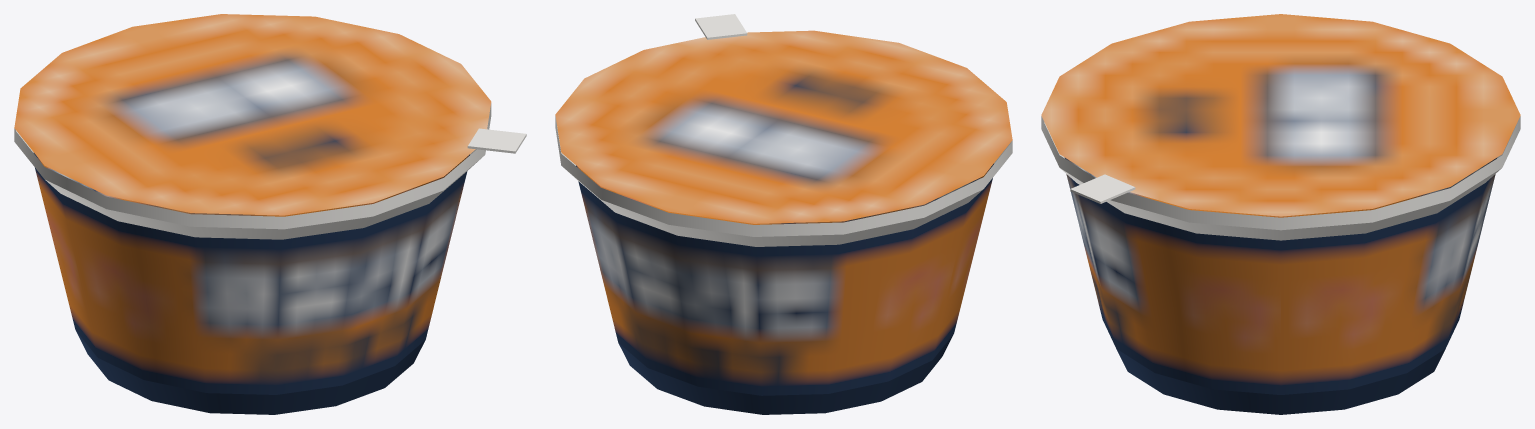
File: SC_Prod_CupRamen_Big_Seafood.gltf
3 views of the same model, side by side, from view 1: azimuth 30°, elevation 25°; view 2: azimuth 150°, elevation 25°; view 3: azimuth 270°, elevation 25° (orthographic). The views are drawn at different scales.
Visible parts, largest first — view 1: SC_Prod_CupRamen_Big_Seafood; view 2: SC_Prod_CupRamen_Big_Seafood; view 3: SC_Prod_CupRamen_Big_Seafood.
Part boxes in pixels (left/top/right/bottom): SC_Prod_CupRamen_Big_Seafood: left=14, top=14, right=526, bottom=414; SC_Prod_CupRamen_Big_Seafood: left=555, top=14, right=1012, bottom=414; SC_Prod_CupRamen_Big_Seafood: left=1041, top=14, right=1520, bottom=414.
Size of the model in its own units: 0.156 by 0.0833 by 0.156.
2 materials, 2 textured.
